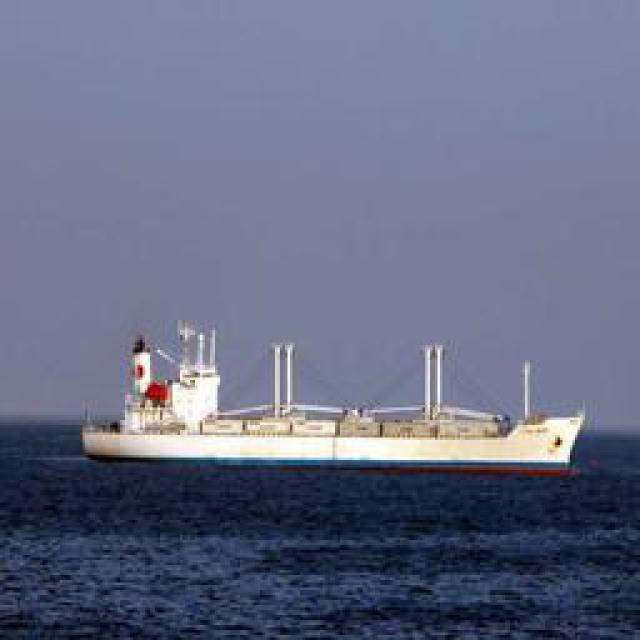Ship: (80, 330, 595, 470)
